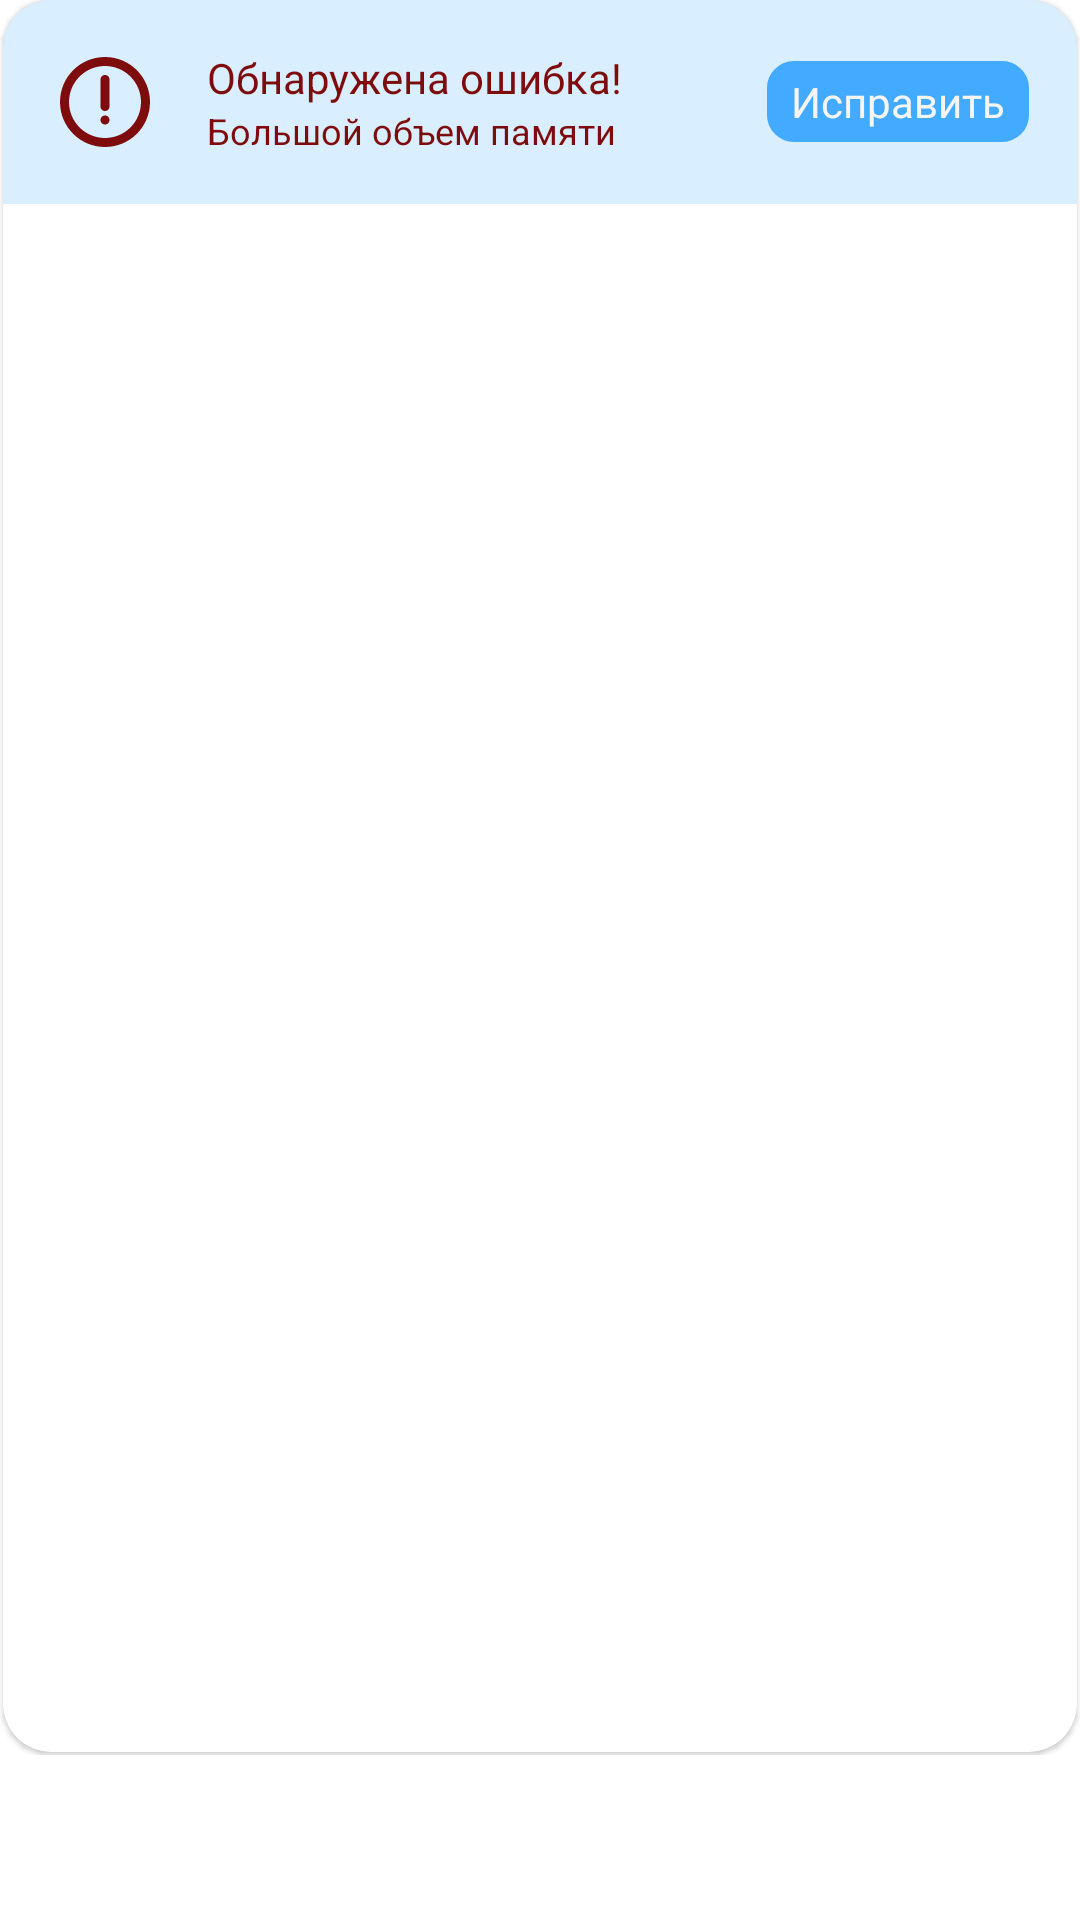

Point at icon controls on the screen. Image size 1080x1920, points as [x,y].
wrning line: [105,102]
